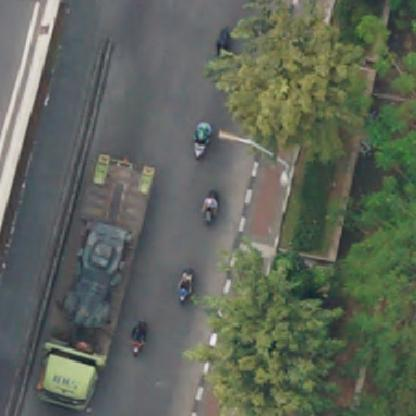motorcycle: (173, 272, 200, 306), (210, 25, 234, 56), (130, 322, 148, 356), (189, 122, 207, 155), (202, 194, 219, 222)
truck: (36, 159, 155, 400)
